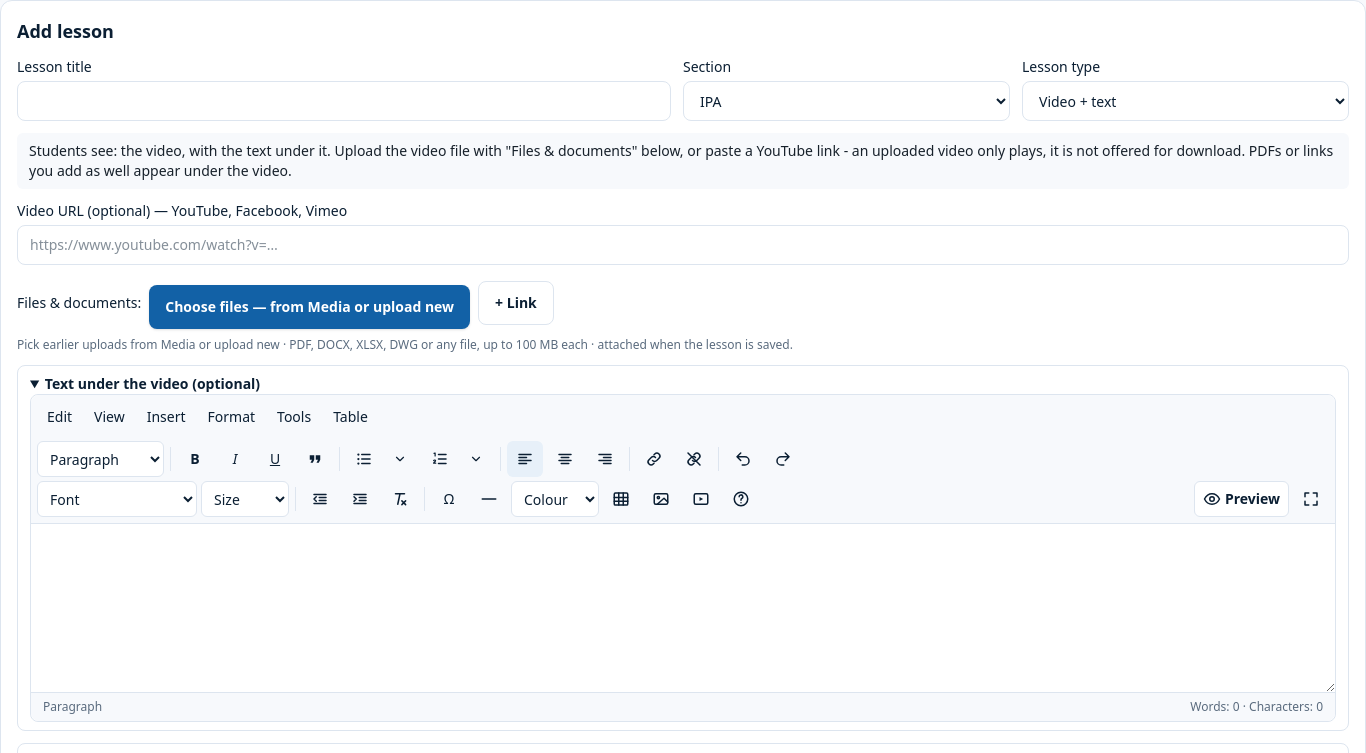
it: MediaFileInput trigger › gives the lesson form its file button, opening the course’s Media
The image size is (1366, 753).
Click the button "Choose files — from Media or upload new" at (310, 307), box [149,285,470,329]
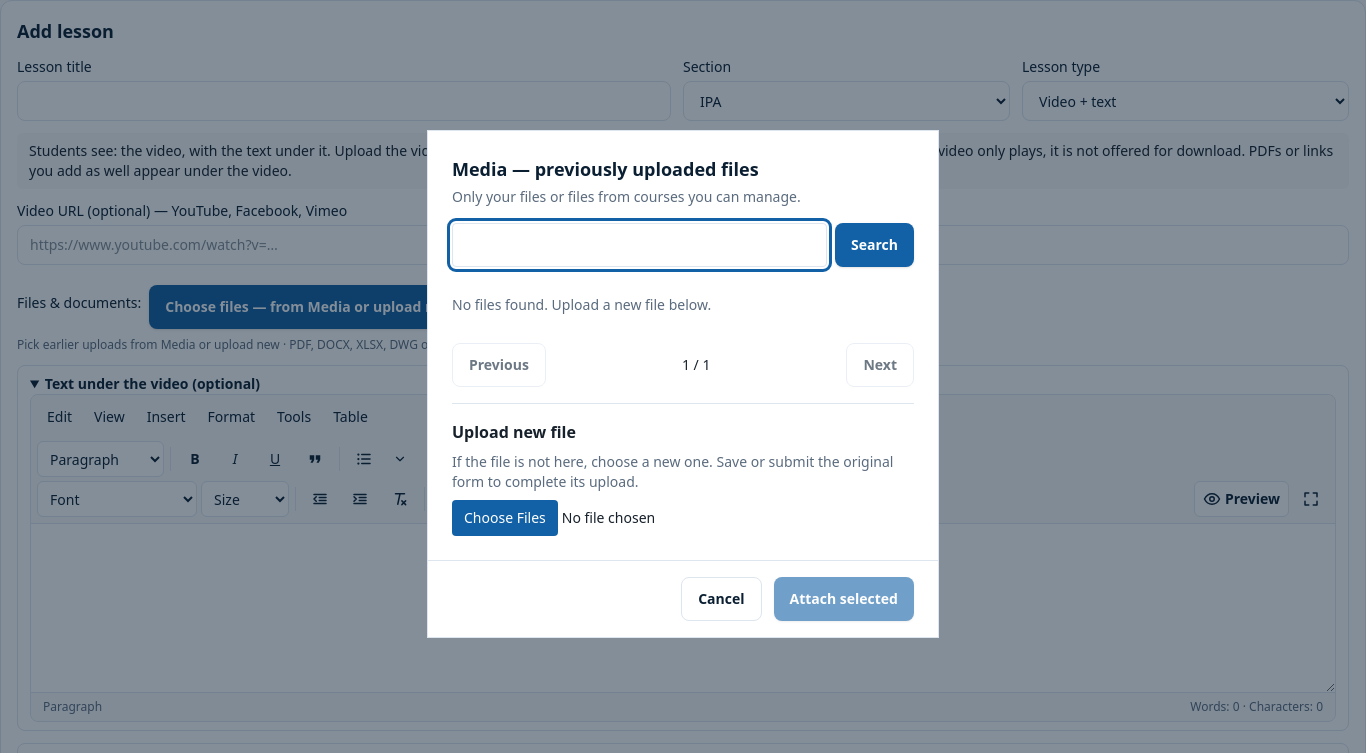
Result: the heading "Media — previously uploaded files" is shown at [452,157,759,181]
